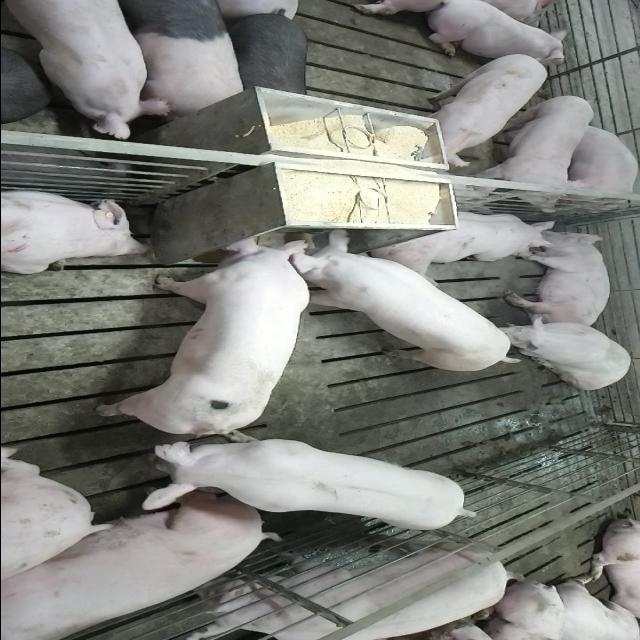Feeding: (90, 235, 310, 437), (283, 232, 527, 378)
Lateral_lying: (3, 490, 280, 637), (502, 230, 611, 329)
Sitting: (488, 312, 634, 390)
Standing: (176, 535, 529, 640), (128, 434, 482, 534), (1, 2, 170, 142), (105, 2, 246, 120), (403, 52, 548, 166), (215, 8, 309, 106)
Sternal_lying: (0, 187, 150, 275), (370, 208, 556, 274), (418, 2, 568, 60), (552, 124, 637, 207)
